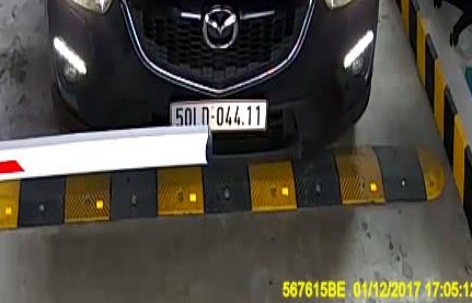plate: (167, 94, 270, 136)
